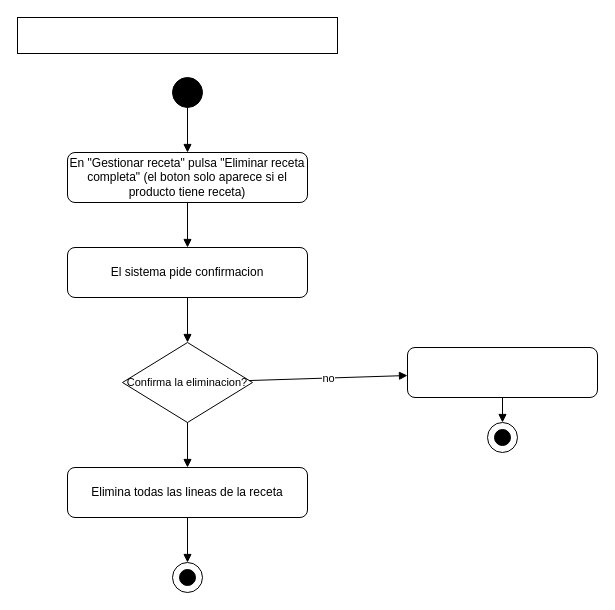
Image size: 615x610. Some labels were removed from this diagram. The shapes that lost their labels are listed below. From the top down, each one's centre as x and y in pixels, then its label:
At [177,35]: "Diagrama de actividad - Eliminar Receta (CU-08)".
At [502,372]: "Cancela: no hay cambios".
